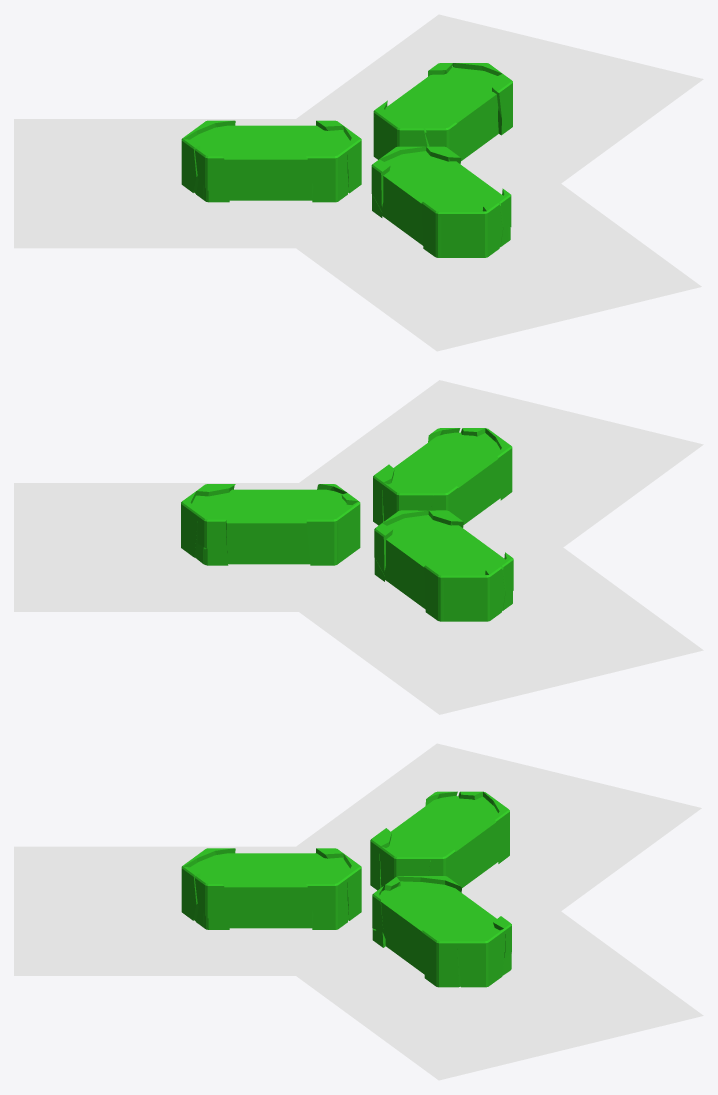
File: Spinner.fbx
3 renders of one model, top to bottom at view 1: azimuth 30°, elevation 25°; view 2: azimuth 150°, elevation 25°; view 3: azimuth 270°, elevation 25°, orthographic.
Parts seen in each view (by area): view 1: Shadow (×3), Model (×3), HexGib04 (×2), HexGib09 (×2), HexGib05 (×3), HexGib06 (×2), HexGib01, HexGib02; view 2: Shadow (×3), Model (×3), HexGib04 (×3), HexGib02 (×3), HexGib01 (×2), HexGib05, HexGib09; view 3: Shadow (×3), Model (×3), HexGib09 (×3), HexGib01 (×3), HexGib06, HexGib04, HexGib05, HexGib02.
Part boxes in pixels (<box>): Shadow (×3): <box>14,14,703,351</box>; Model (×3): <box>190,67,509,257</box>; HexGib04 (×2): <box>373,100,487,257</box>; HexGib09 (×2): <box>306,73,512,202</box>; HexGib05 (×3): <box>181,124,502,256</box>; HexGib06 (×2): <box>195,122,460,190</box>; HexGib01: <box>343,126,361,193</box>; HexGib02: <box>371,159,390,208</box>; Shadow (×3): <box>14,380,703,714</box>; Model (×3): <box>192,432,511,621</box>; HexGib04 (×3): <box>306,428,512,621</box>; HexGib02 (×3): <box>197,486,458,571</box>; HexGib01 (×2): <box>181,482,433,557</box>; HexGib05: <box>485,565,504,620</box>; HexGib09: <box>373,464,394,525</box>; Shadow (×3): <box>14,743,703,1080</box>; Model (×3): <box>190,796,510,986</box>; HexGib09 (×3): <box>306,828,458,987</box>; HexGib01 (×3): <box>343,846,505,987</box>; HexGib06: <box>195,876,229,918</box>; HexGib04: <box>483,791,509,863</box>; HexGib05: <box>181,866,200,920</box>; HexGib02: <box>430,849,455,882</box>.
Bounding box in the file's own units: 5.3 × 0.3461 × 4.59.
